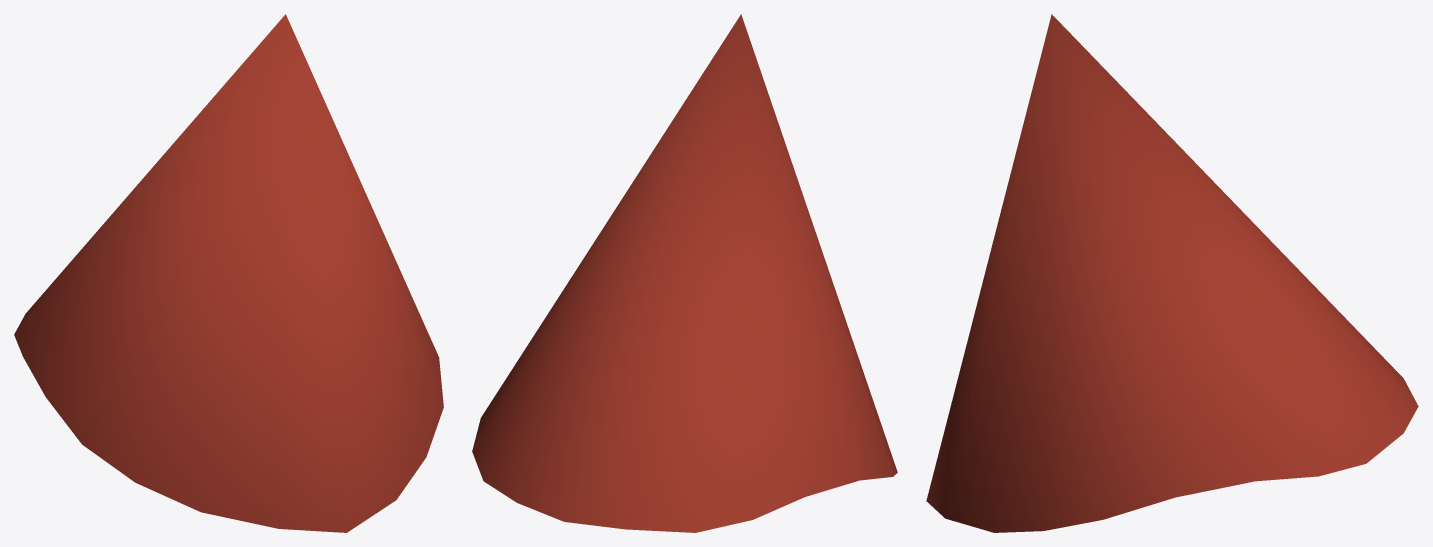
The model's file is Non_Gnome.fbx.
3 renders of one model, left to right at view 1: azimuth 30°, elevation 25°; view 2: azimuth 150°, elevation 25°; view 3: azimuth 270°, elevation 25°, orthographic. The views are drawn at different scales.
Parts seen in each view (by area): view 1: Non_Gnome; view 2: Non_Gnome; view 3: Non_Gnome.
Boxes of the visible parts, x1=… form: Non_Gnome: x1=14, y1=14, x2=443, y2=532; Non_Gnome: x1=472, y1=14, x2=897, y2=532; Non_Gnome: x1=926, y1=14, x2=1418, y2=532.
Size of the model in its own units: 28.19 by 35.49 by 32.5.
Materials: 1 (1 with a texture image).
